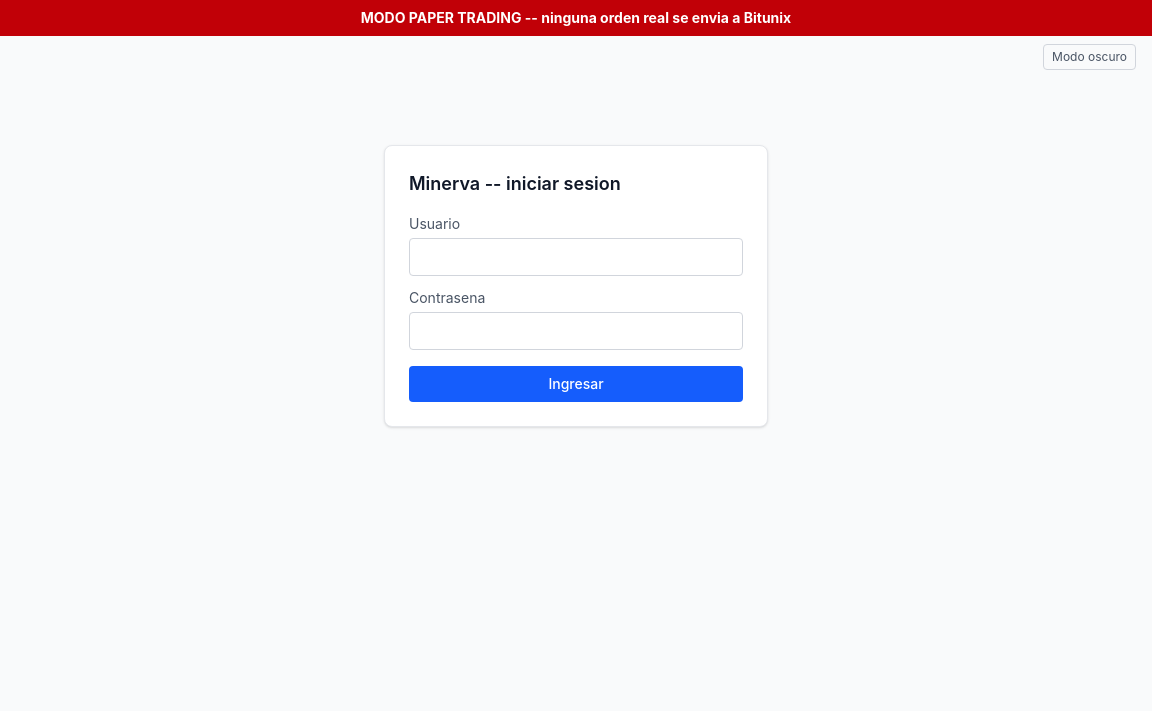
App: cierre y vencimiento de sesion en la misma pestana › un 401 en una query de datos lleva a LoginView y volver a entrar muestra el dashboard
Expected: the heading "Minerva -- iniciar sesion" is shown, [409,173,621,194]
Step 1. Type "admin" into the field labelled "Usuario" → (576, 257), box [409,238,743,276]
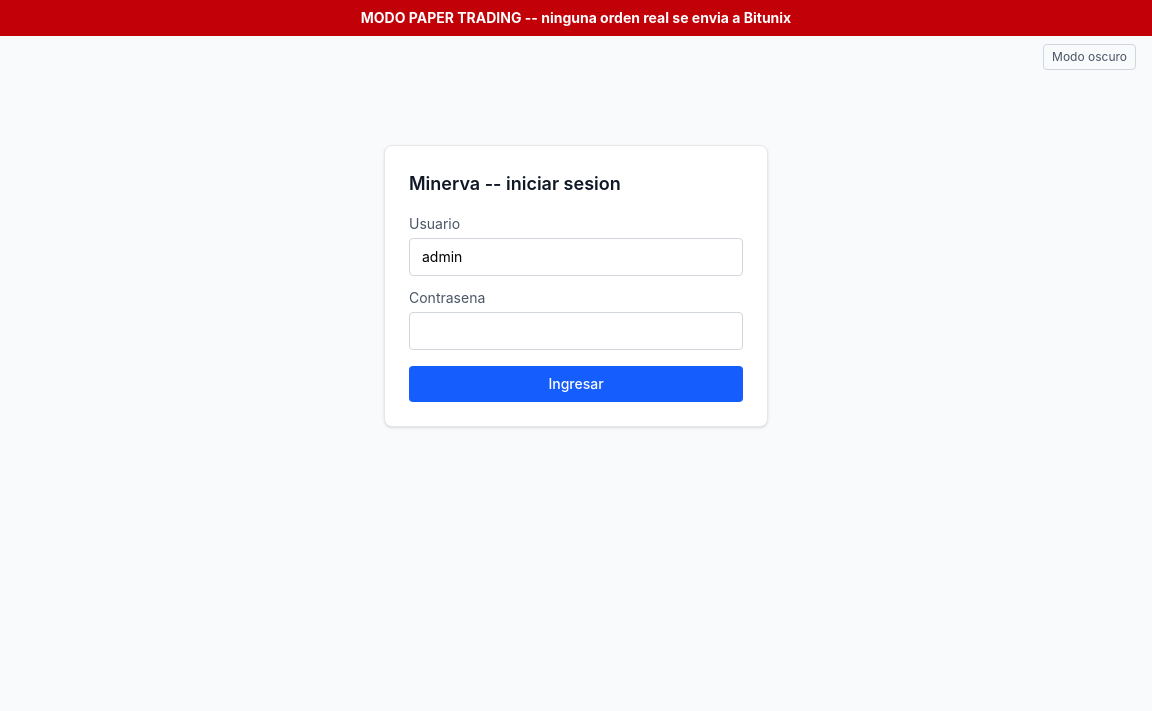
Step 2. Type "clave" into the password field labelled "Contrasena" → (576, 331), box [409,312,743,350]
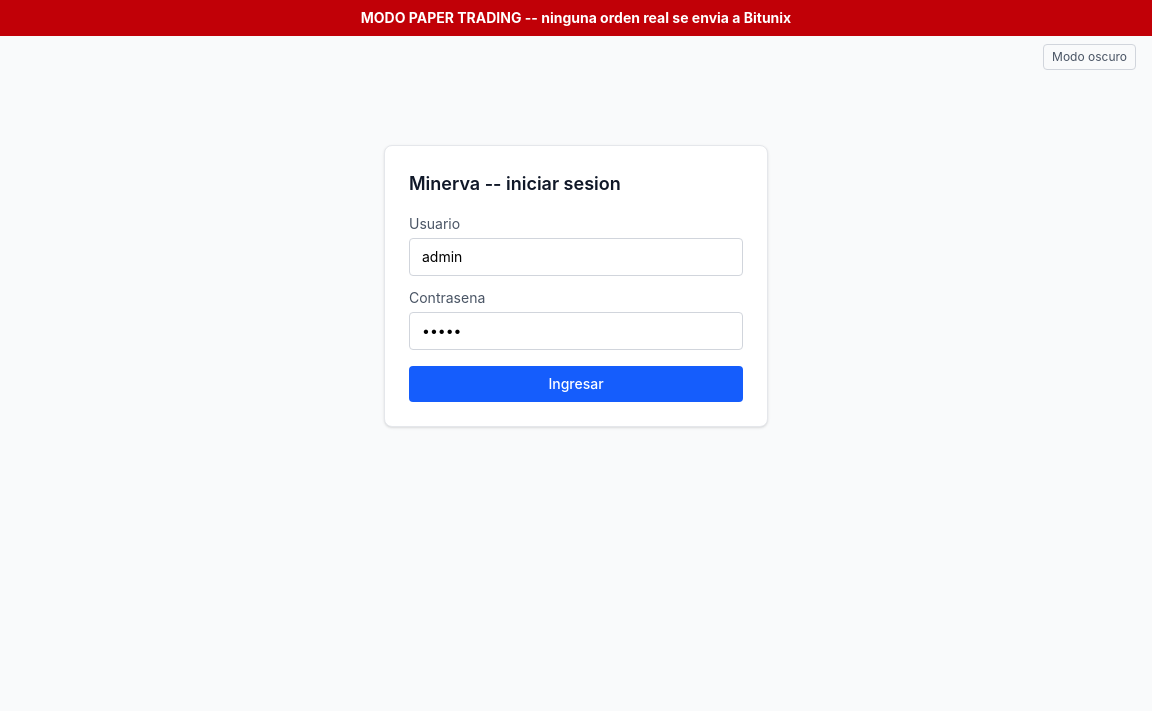
Step 3. Click the button "Ingresar" → (576, 384), box [409,366,743,402]
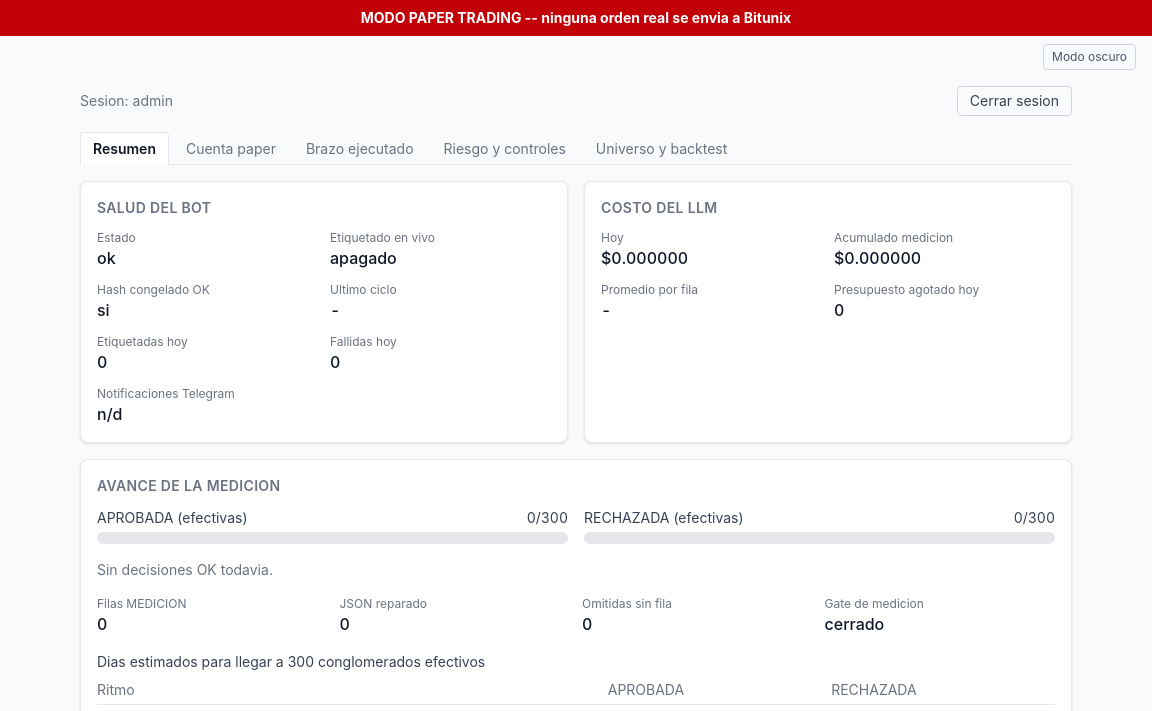
Expected: the text "Sesion: admin" is shown, [80,91,173,111]
